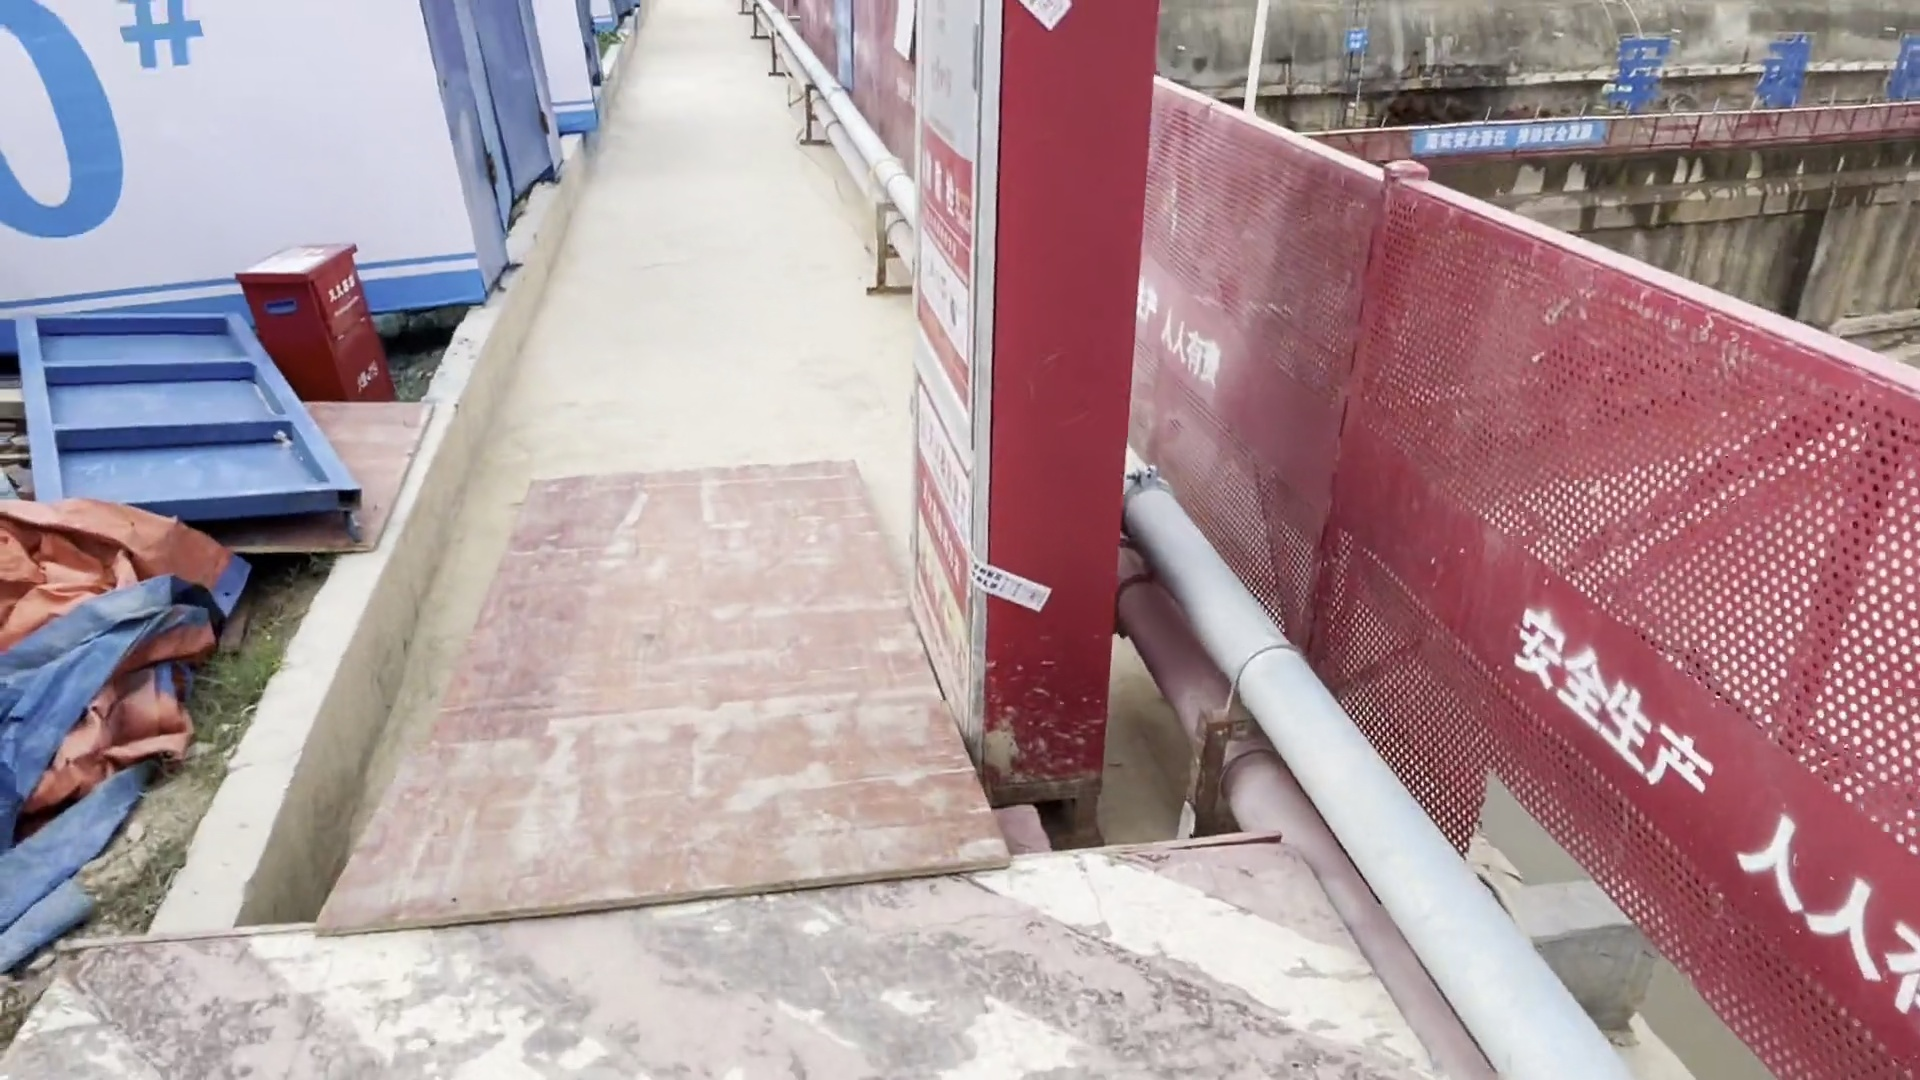board: (473, 458, 981, 915)
fence: (1156, 79, 1920, 1047)
